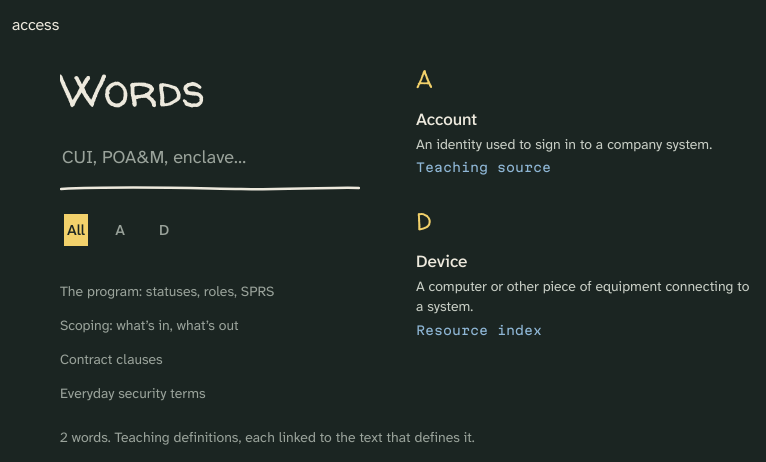
Test case: Glossary › recovers an empty search and focuses its own input
The image size is (766, 462).
Step 1. Type "nothing-here" into the search field named "Search words" → (210, 158), box [60,136,360,180]
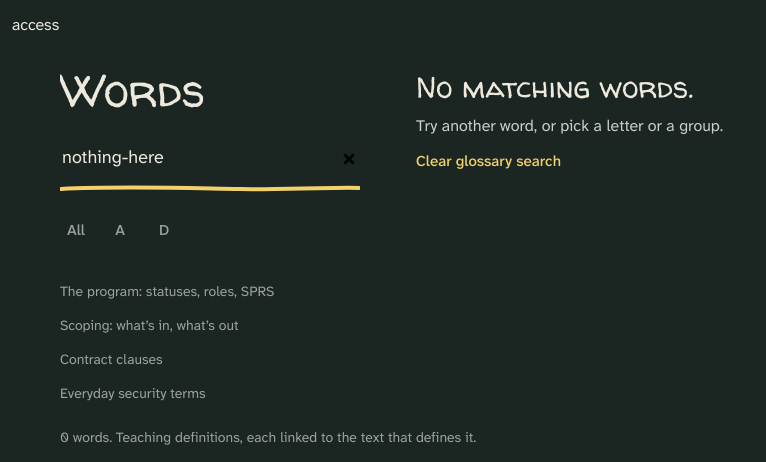
Now the heading "No matching words." is shown, box [416,68,694,107]
Step 2. Click the button "Clear glossary search" → (489, 161), box [416,139,561,183]
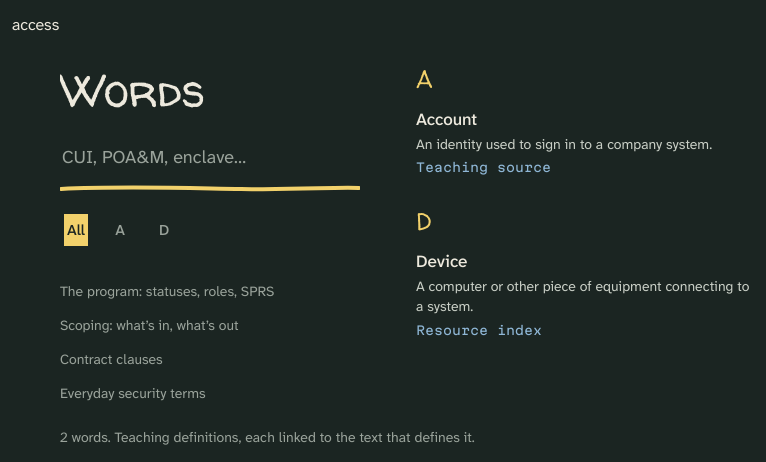
Expected: the field named "Control search" holds "access", [12,12,205,38]
Now the search field named "Search words" is empty, box [60,136,360,180]
Now the message named "Glossary search results" reads "2 words", box [60,428,108,446]
